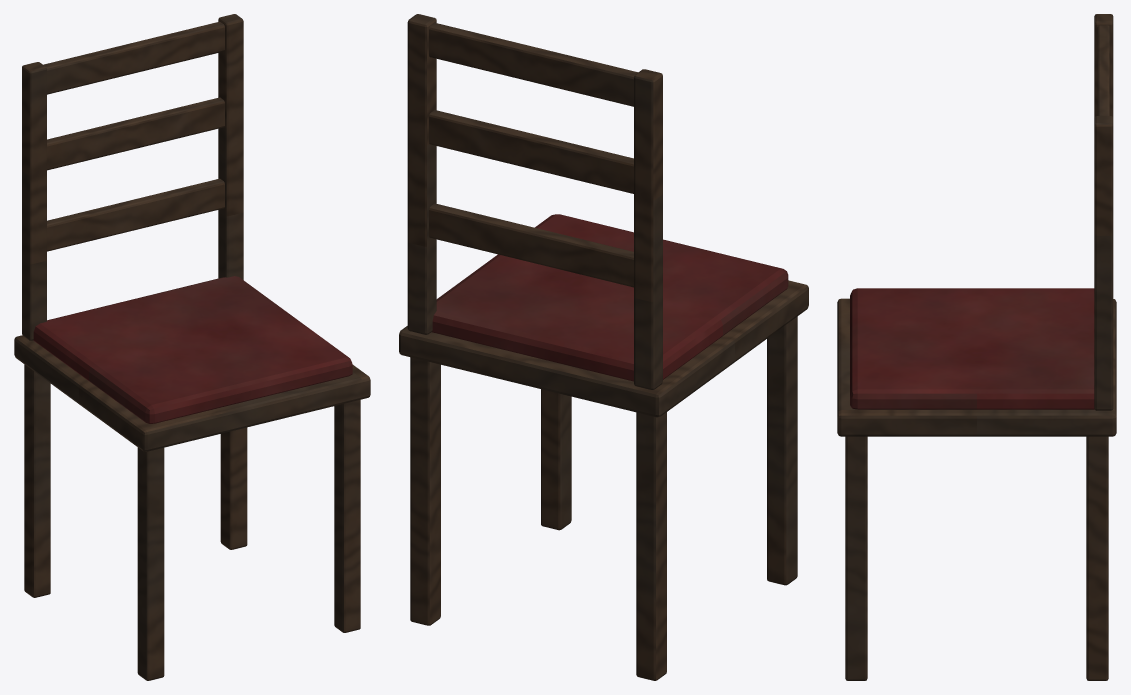
File: L11_dining_chair_v1.glb
3 views of the same model, side by side, from view 1: azimuth 30°, elevation 25°; view 2: azimuth 150°, elevation 25°; view 3: azimuth 270°, elevation 25° (orthographic). The views are drawn at different scales.
Visible parts, largest first — view 1: L11_dining_chair_v1; view 2: L11_dining_chair_v1; view 3: L11_dining_chair_v1.
Part boxes in pixels (<box>): L11_dining_chair_v1: <box>14,14,370,680</box>; L11_dining_chair_v1: <box>399,14,808,680</box>; L11_dining_chair_v1: <box>837,14,1116,680</box>.
Bounding box in the file's own units: 0.4082 × 0.9 × 0.4082.
Materials: 2 (2 with a texture image).
